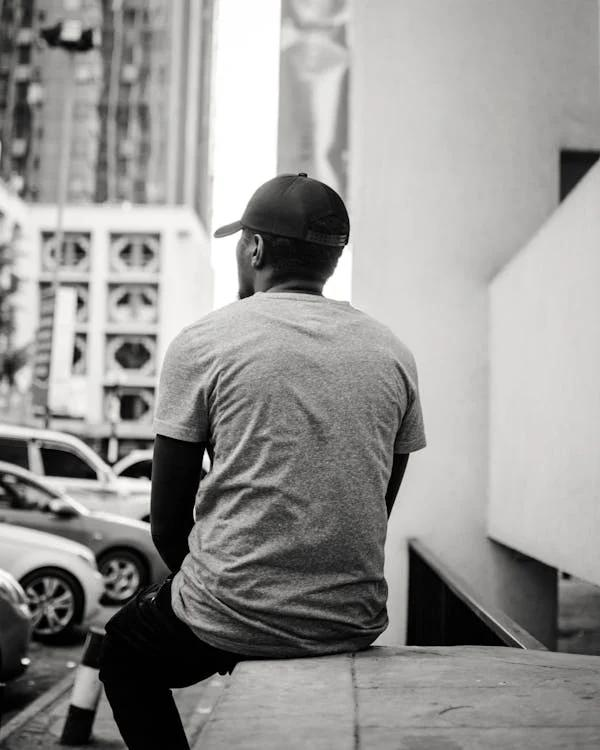Human: (93, 128, 428, 750)
